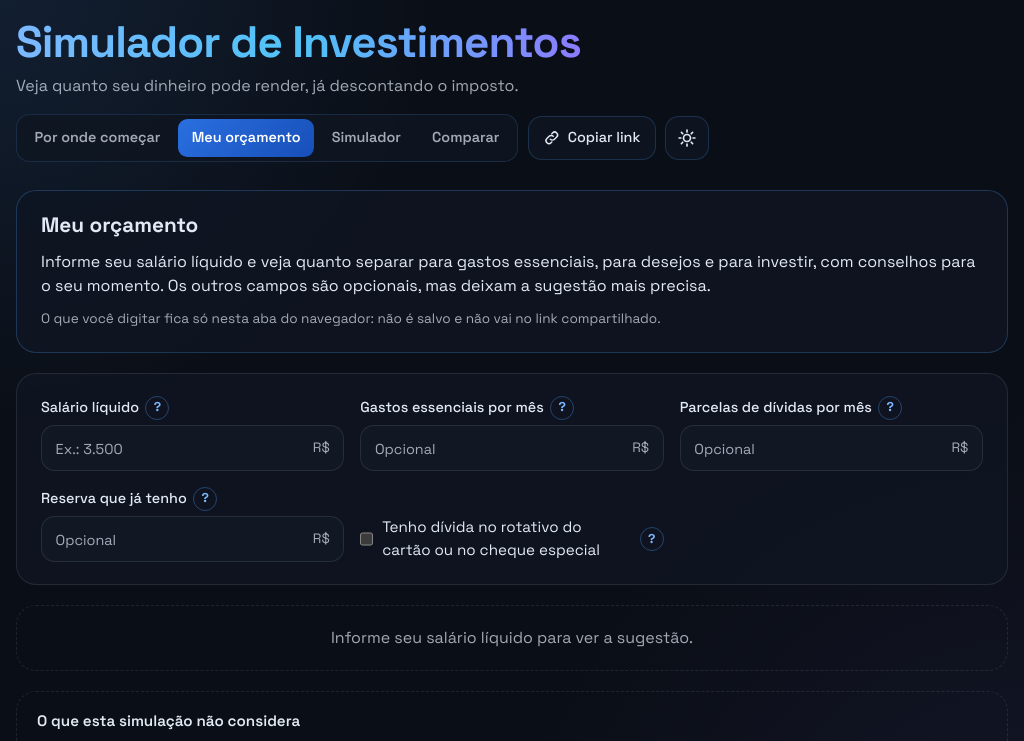
Test case: simular esse valor abre o simulador com o aporte sugerido
The width and height of the screenshot is (1024, 741).
Type "5.000" into the field labelled "Salário líquido" at [177, 448], box left=42, top=426, right=313, bottom=470
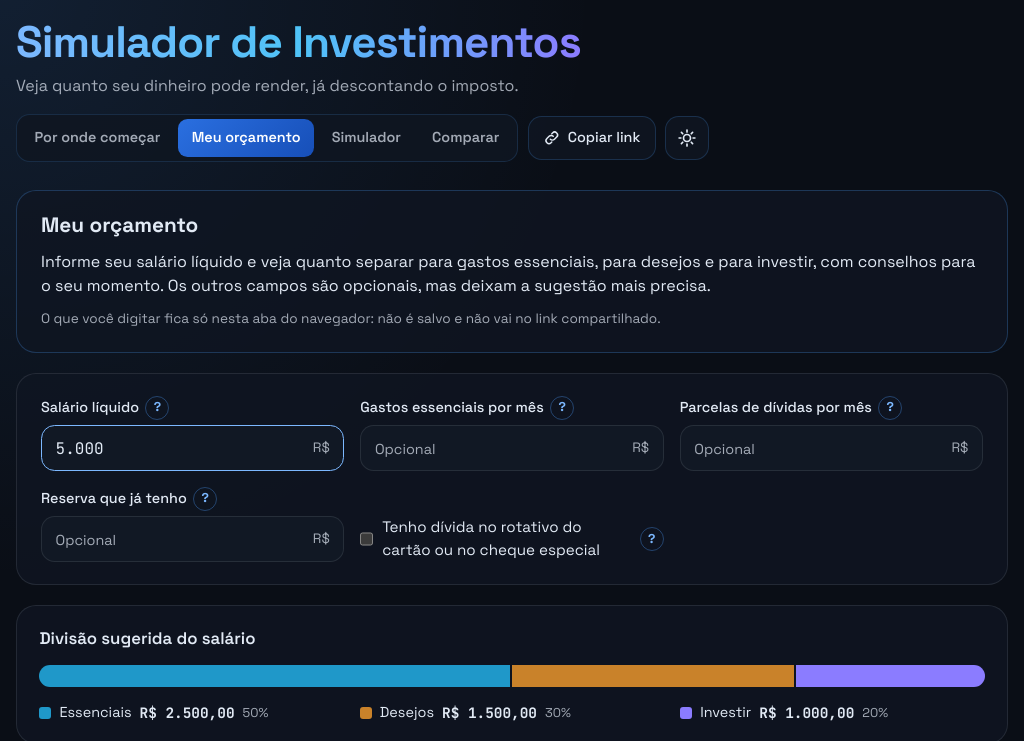
Type "2.000" into the field labelled "Gastos essenciais por mês" at [497, 448], box left=361, top=426, right=632, bottom=470
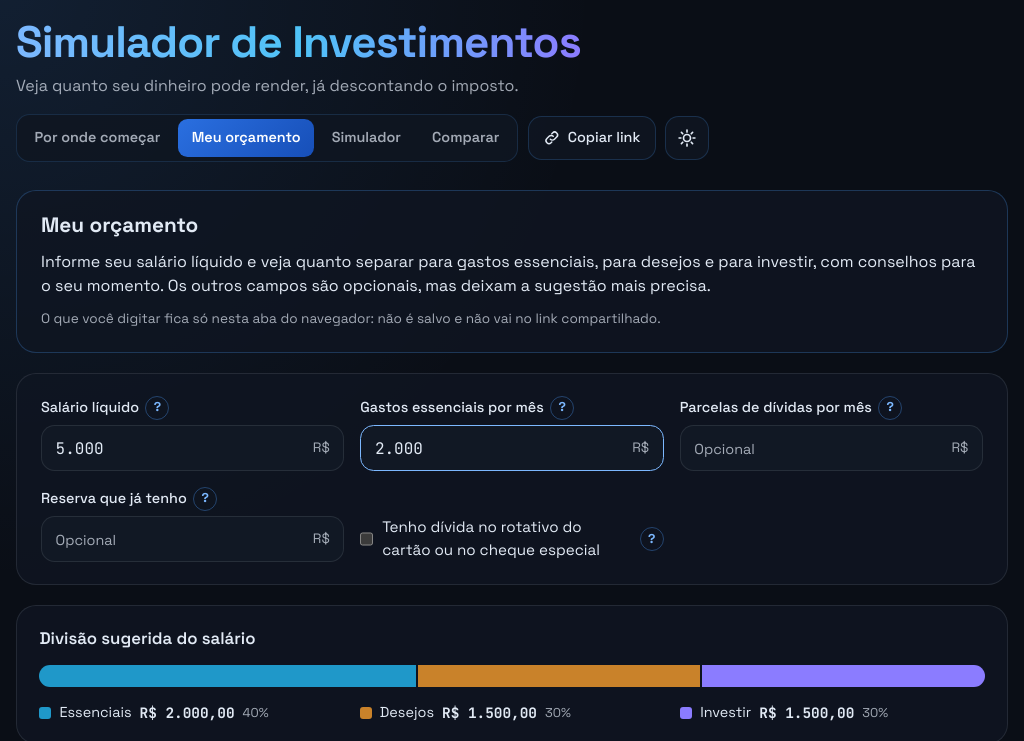
Type "3.000" into the field labelled "Reserva que já tenho" at [177, 539], box left=42, top=518, right=313, bottom=561
(page scrolled)
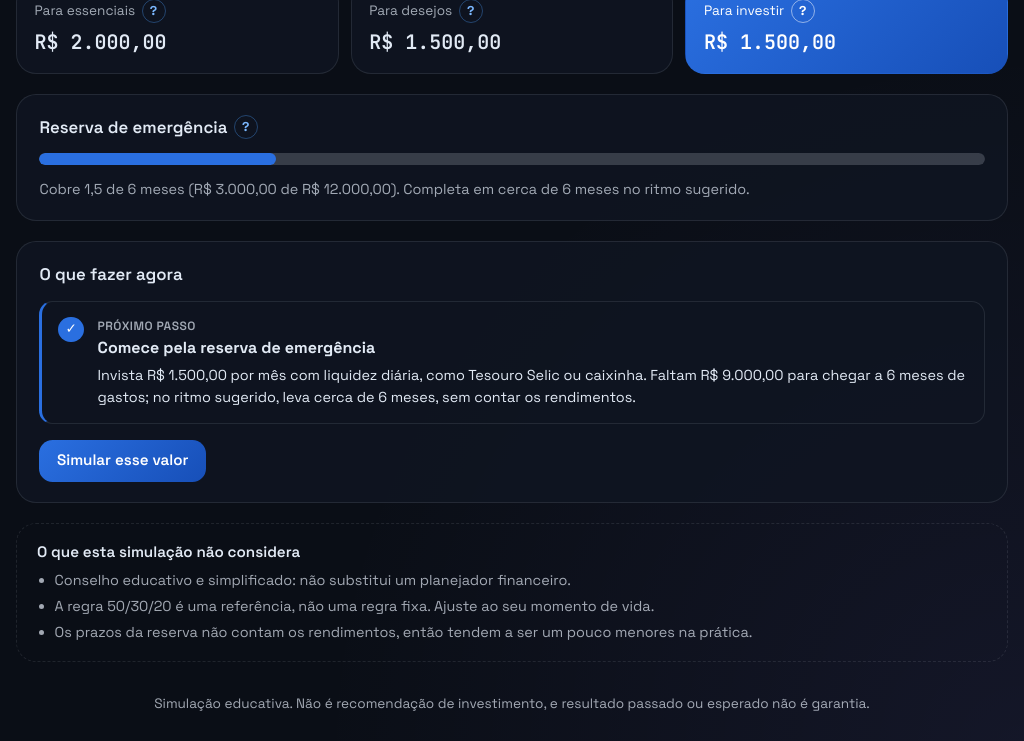
Click the button "Simular esse valor" at [123, 460], box left=39, top=440, right=206, bottom=482
(page scrolled)
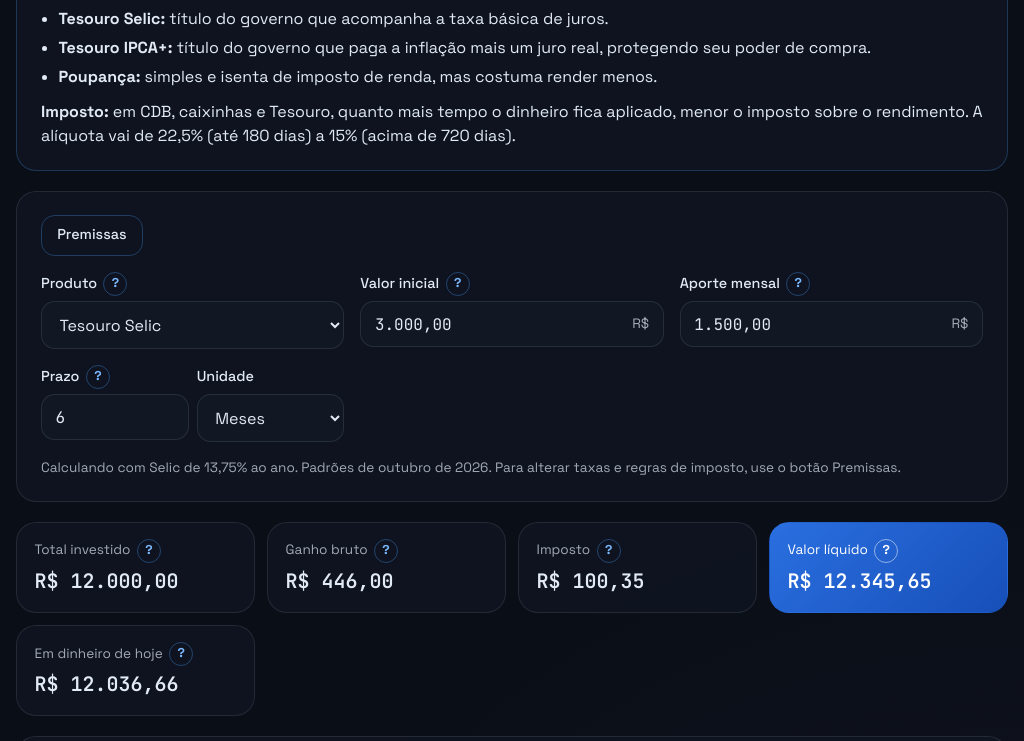
Now the dropdown labelled "Produto" shows "Tesouro Selic", box left=41, top=302, right=344, bottom=349
Now the field labelled "Valor inicial" holds "3.000,00", box left=361, top=302, right=632, bottom=346
Now the field labelled "Aporte mensal" holds "1.500,00", box left=681, top=302, right=952, bottom=346
